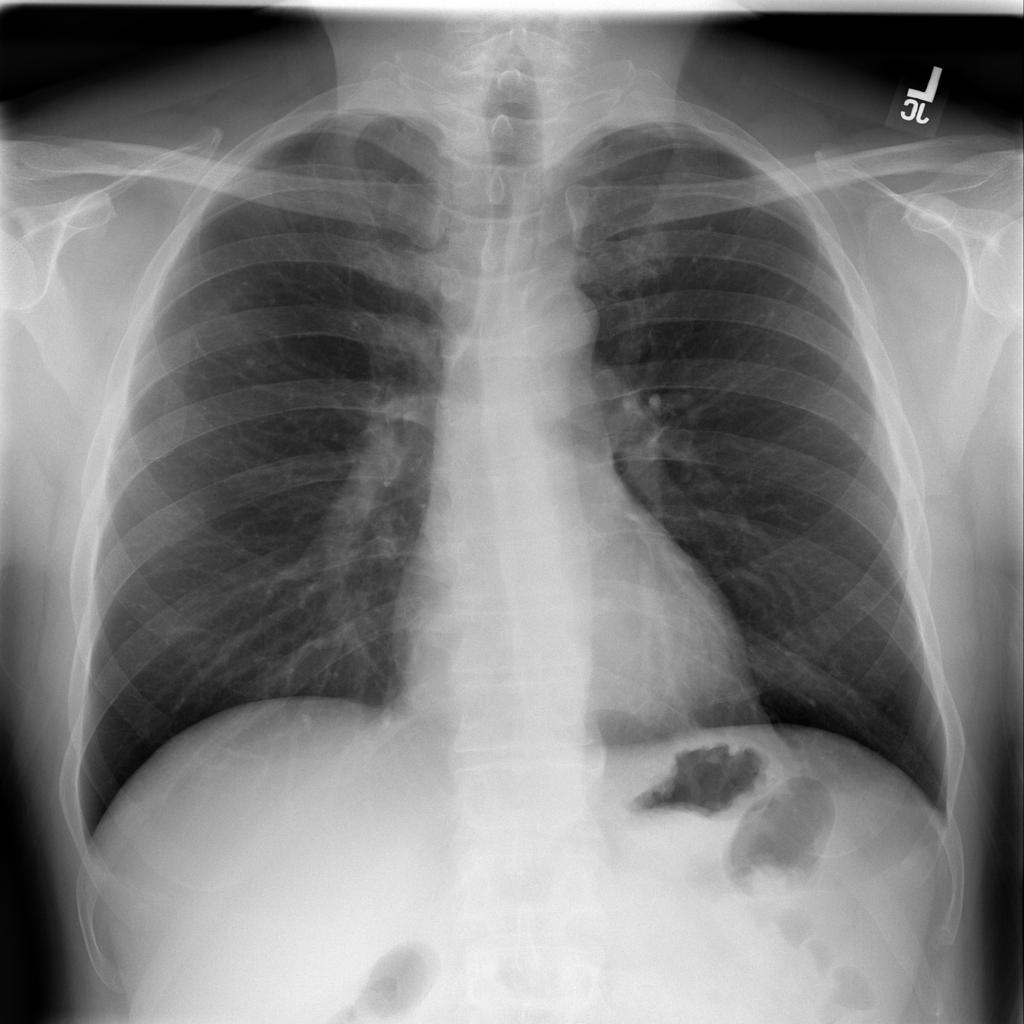nodule: (816, 399, 890, 465), (224, 336, 278, 383)
